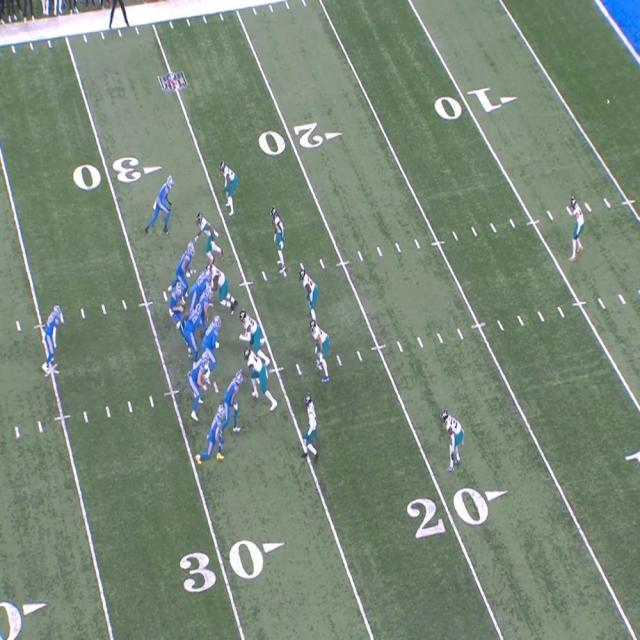db: (443, 410, 466, 470), (569, 200, 586, 258), (222, 164, 240, 210), (303, 398, 317, 449), (274, 210, 288, 252)
lb: (314, 322, 332, 372), (300, 271, 319, 310)
qb: (172, 281, 184, 328)
skill: (220, 372, 242, 430), (188, 352, 207, 418), (46, 304, 65, 367), (208, 403, 228, 461), (154, 178, 174, 230)
